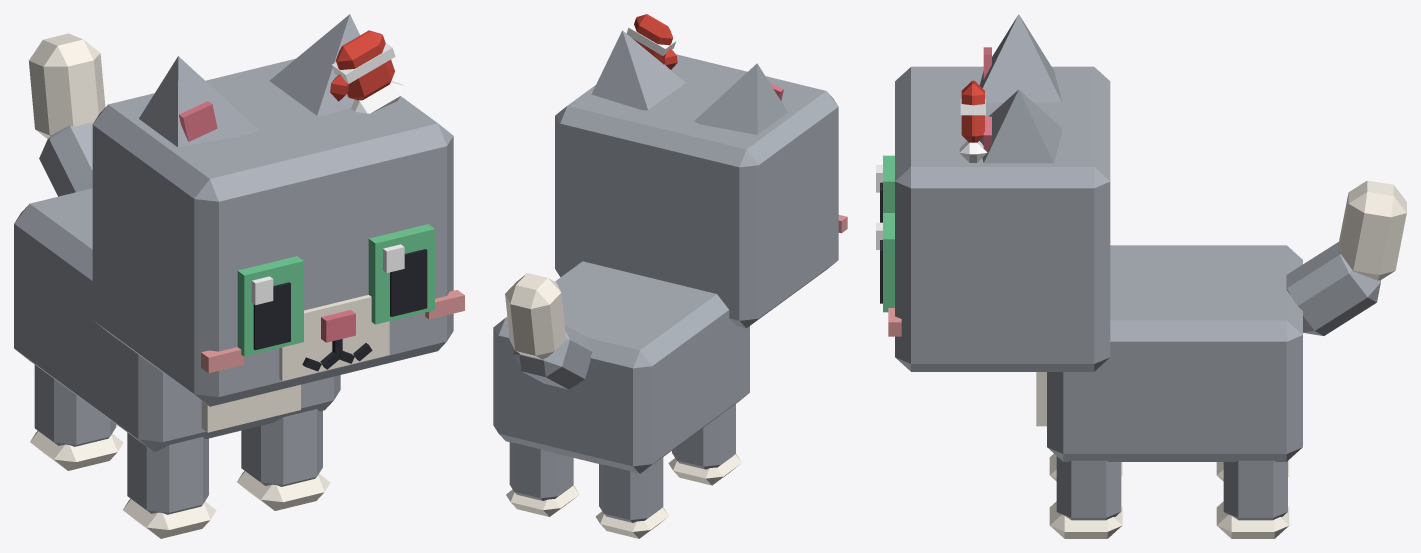
File: CatCafe_Cat_Mitten.glb
3 renders of one model, left to right at view 1: azimuth 30°, elevation 25°; view 2: azimuth 150°, elevation 25°; view 3: azimuth 270°, elevation 25°, orthographic. The views are drawn at different scales.
Parts seen in each view (by area): view 1: CatCafe_Cat_Mitten_Head, CatCafe_Cat_Mitten_Body, CatCafe_Cat_Mitten_Tail, CatCafe_Cat_Mitten_LegF2, CatCafe_Cat_Mitten_LegF1, CatCafe_Cat_Mitten_Eye2, CatCafe_Cat_Mitten_Eye1, CatCafe_Cat_Mitten_LegB2, CatCafe_Cat_Mitten_EarR, CatCafe_Cat_Mitten_Prop, CatCafe_Cat_Mitten_EarL; view 2: CatCafe_Cat_Mitten_Head, CatCafe_Cat_Mitten_Body, CatCafe_Cat_Mitten_Tail, CatCafe_Cat_Mitten_LegB2, CatCafe_Cat_Mitten_EarL, CatCafe_Cat_Mitten_LegB1, CatCafe_Cat_Mitten_EarR, CatCafe_Cat_Mitten_LegF2, CatCafe_Cat_Mitten_Prop; view 3: CatCafe_Cat_Mitten_Head, CatCafe_Cat_Mitten_Body, CatCafe_Cat_Mitten_Tail, CatCafe_Cat_Mitten_LegF1, CatCafe_Cat_Mitten_LegB1, CatCafe_Cat_Mitten_EarR, CatCafe_Cat_Mitten_EarL, CatCafe_Cat_Mitten_Prop, CatCafe_Cat_Mitten_Eye1, CatCafe_Cat_Mitten_Eye2.
Boxes of the visible parts, <box> form: CatCafe_Cat_Mitten_Head: <box>92,58,464,406</box>; CatCafe_Cat_Mitten_Body: <box>14,188,340,451</box>; CatCafe_Cat_Mitten_Tail: <box>29,33,105,196</box>; CatCafe_Cat_Mitten_LegF2: <box>123,432,216,538</box>; CatCafe_Cat_Mitten_LegF1: <box>237,409,330,510</box>; CatCafe_Cat_Mitten_Eye2: <box>237,256,303,356</box>; CatCafe_Cat_Mitten_Eye1: <box>368,224,434,324</box>; CatCafe_Cat_Mitten_LegB2: <box>30,365,123,470</box>; CatCafe_Cat_Mitten_EarR: <box>139,56,258,147</box>; CatCafe_Cat_Mitten_Prop: <box>330,30,403,113</box>; CatCafe_Cat_Mitten_EarL: <box>269,14,359,115</box>; CatCafe_Cat_Mitten_Head: <box>555,54,847,328</box>; CatCafe_Cat_Mitten_Body: <box>493,261,749,473</box>; CatCafe_Cat_Mitten_Tail: <box>505,273,592,389</box>; CatCafe_Cat_Mitten_LegB2: <box>595,457,668,538</box>; CatCafe_Cat_Mitten_EarL: <box>591,30,685,110</box>; CatCafe_Cat_Mitten_LegB1: <box>506,442,579,516</box>; CatCafe_Cat_Mitten_EarR: <box>694,63,787,134</box>; CatCafe_Cat_Mitten_LegF2: <box>668,404,741,485</box>; CatCafe_Cat_Mitten_Prop: <box>626,14,677,69</box>; CatCafe_Cat_Mitten_Head: <box>888,66,1110,371</box>; CatCafe_Cat_Mitten_Body: <box>1036,245,1302,461</box>; CatCafe_Cat_Mitten_Tail: <box>1286,180,1406,335</box>; CatCafe_Cat_Mitten_LegF1: <box>1049,456,1122,538</box>; CatCafe_Cat_Mitten_LegB1: <box>1216,460,1289,538</box>; CatCafe_Cat_Mitten_EarR: <box>979,14,1061,102</box>; CatCafe_Cat_Mitten_EarL: <box>979,89,1061,163</box>; CatCafe_Cat_Mitten_Prop: <box>959,80,987,162</box>; CatCafe_Cat_Mitten_Eye1: <box>876,213,894,312</box>; CatCafe_Cat_Mitten_Eye2: <box>876,155,894,222</box>.
Bounding box in the file's own units: 1 × 1.87 × 1.97.
Materials: 1 (1 with a texture image).
